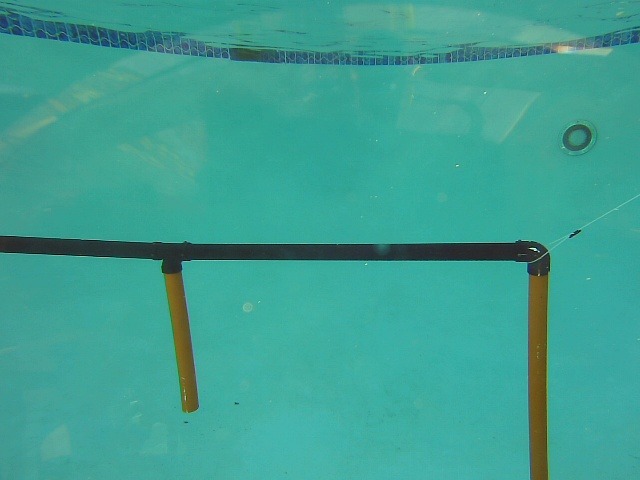Gate: (158, 263, 201, 420), (524, 266, 552, 480)
